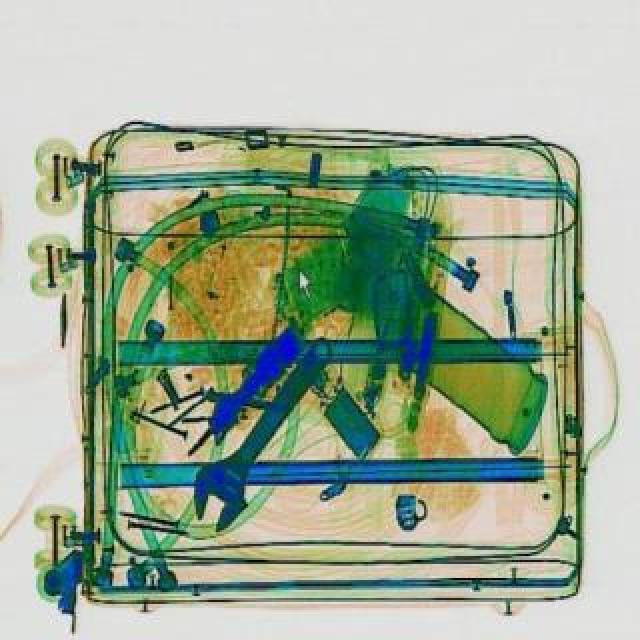scissors: (172, 322, 356, 534)
